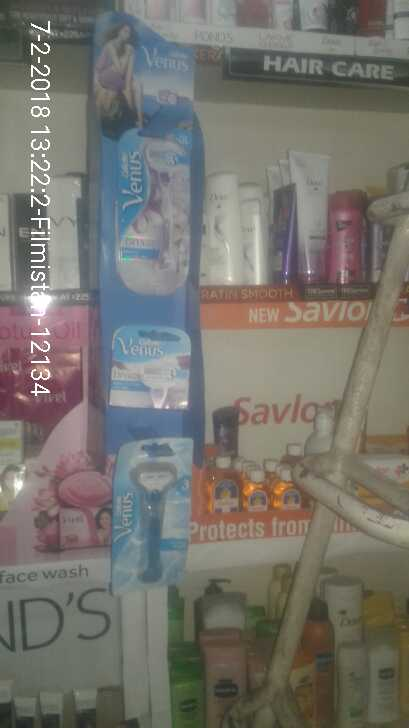venus: (109, 135, 199, 295), (110, 439, 186, 589), (106, 314, 193, 416)
